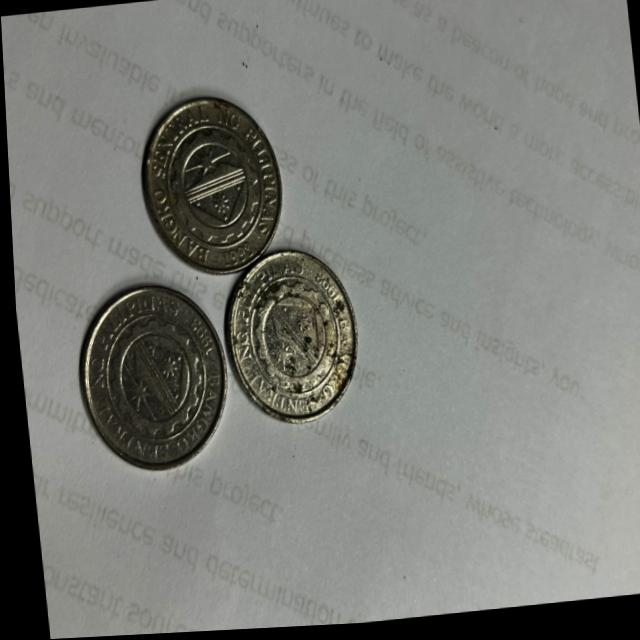1_Old_Back: (91, 307, 209, 451), (154, 117, 268, 258), (234, 275, 341, 404)
